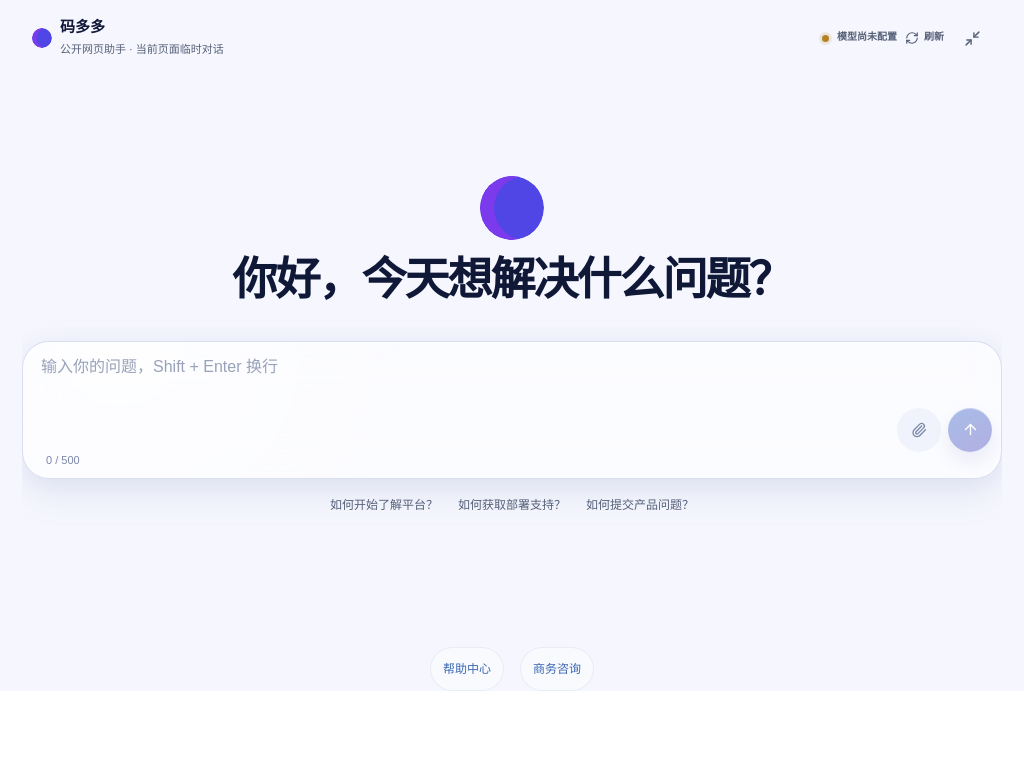
it: AssistantWorkspace › uses the shared session to submit a preset question
Click the button "如何开始了解平台？" at [384, 505], box left=328, top=487, right=440, bottom=523
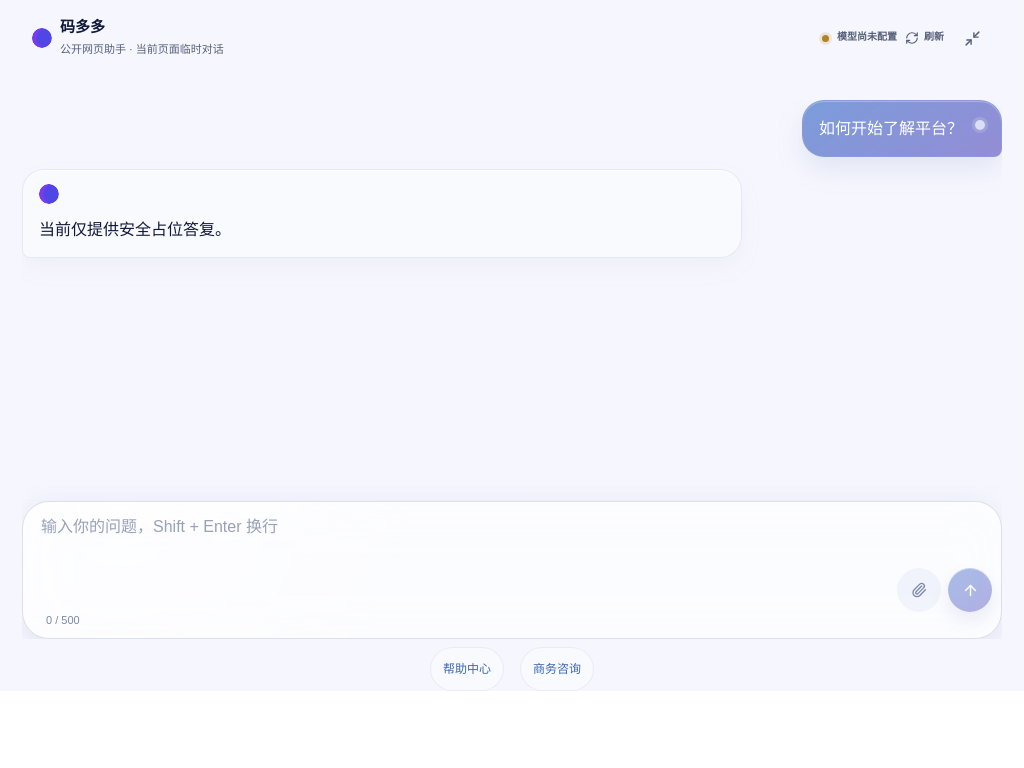
Expected: the text "当前仅提供安全占位答复。" is shown, left=39, top=221, right=231, bottom=238
